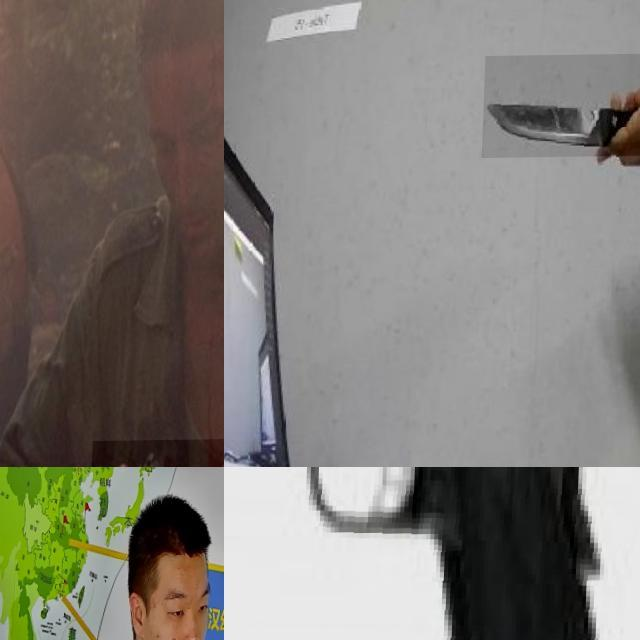-: (483, 54, 640, 159)
gun-knife-thesis - v11 Yolov5 augmented: (224, 467, 640, 640)
